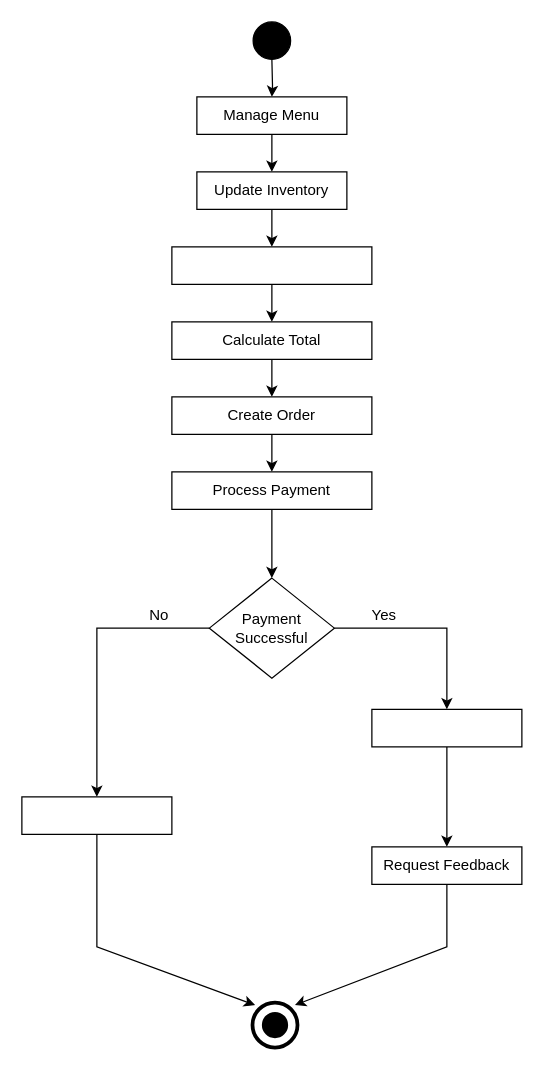
Some shapes in this 544 by 1079 pixel diagram are drawn without their labels. Here are the shapes that lost their labels. From the top down, the box of each, then its label:
(171, 246, 372, 284): Adds Food Items to Cart
(371, 708, 522, 747): Confirm Order
(21, 796, 172, 834): Cancel Order
